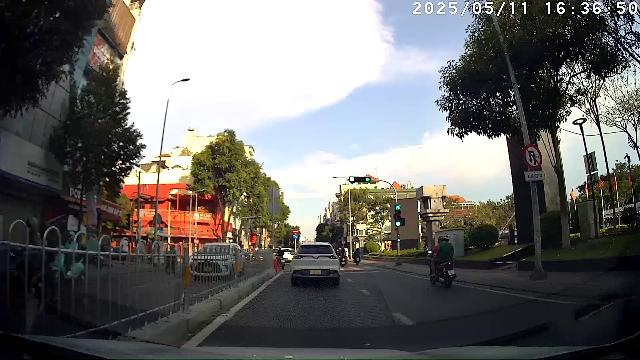124b-cam-oto-quay-dau-xe: (522, 143, 542, 169)
